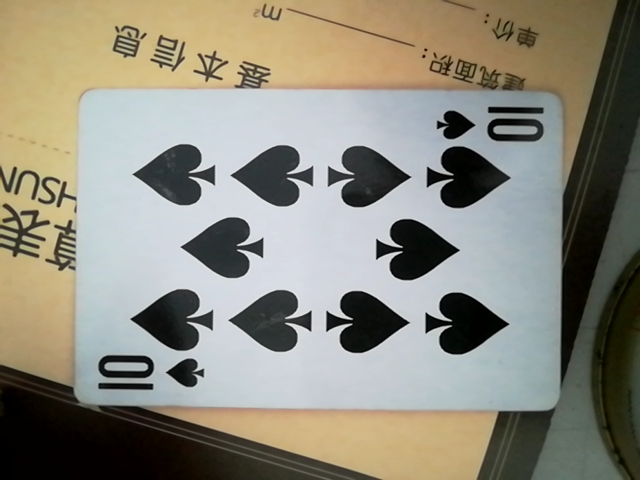ht 10: (61, 87, 565, 421)
